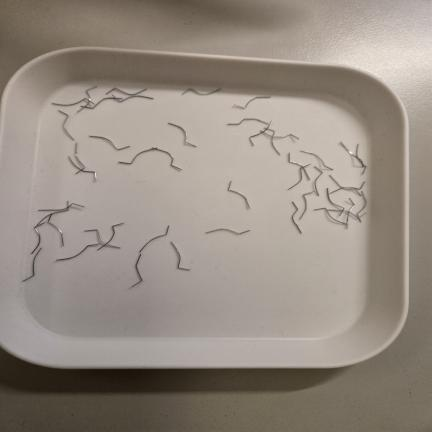probe: (131, 226, 169, 288), (168, 122, 196, 147), (22, 247, 42, 282), (228, 181, 250, 209), (89, 136, 130, 150), (171, 241, 190, 270), (233, 96, 271, 109), (58, 110, 74, 140), (205, 228, 250, 235), (291, 202, 301, 233), (182, 88, 221, 95), (228, 118, 267, 125)
